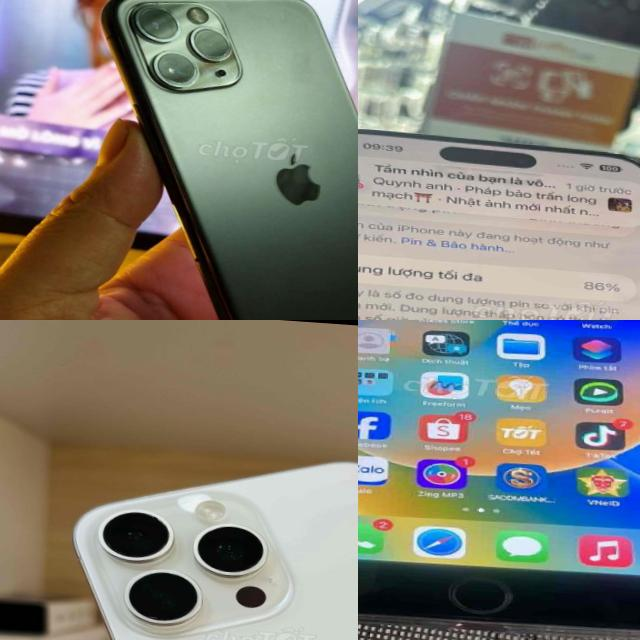gen_11: (72, 0, 358, 320)
gen_15: (31, 426, 358, 640), (358, 101, 640, 320)
gen_7_8: (358, 320, 640, 636)
